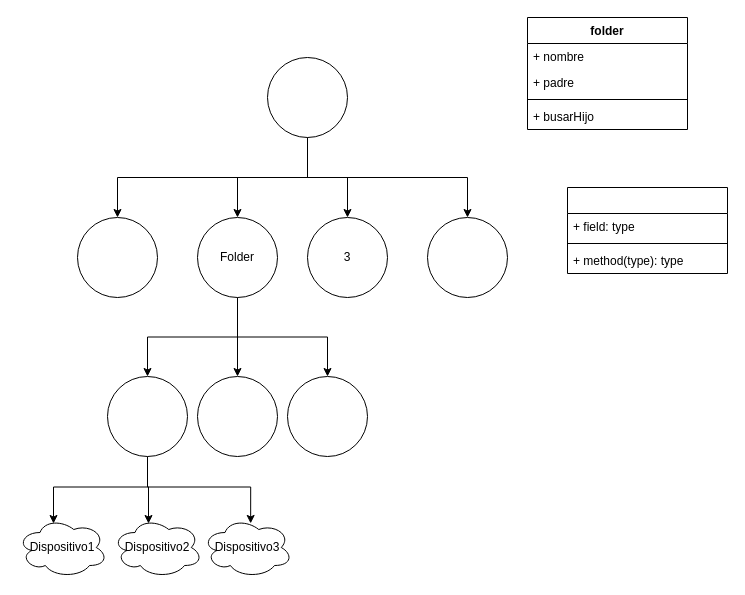
Some shapes in this 745 by 595 pixel diagram are drawn without their labels. The box of each missing label's shape, as (x1, y1, x2, y2) in pixels:
accion: (566, 186, 728, 274)
perfil: (266, 56, 348, 138)
